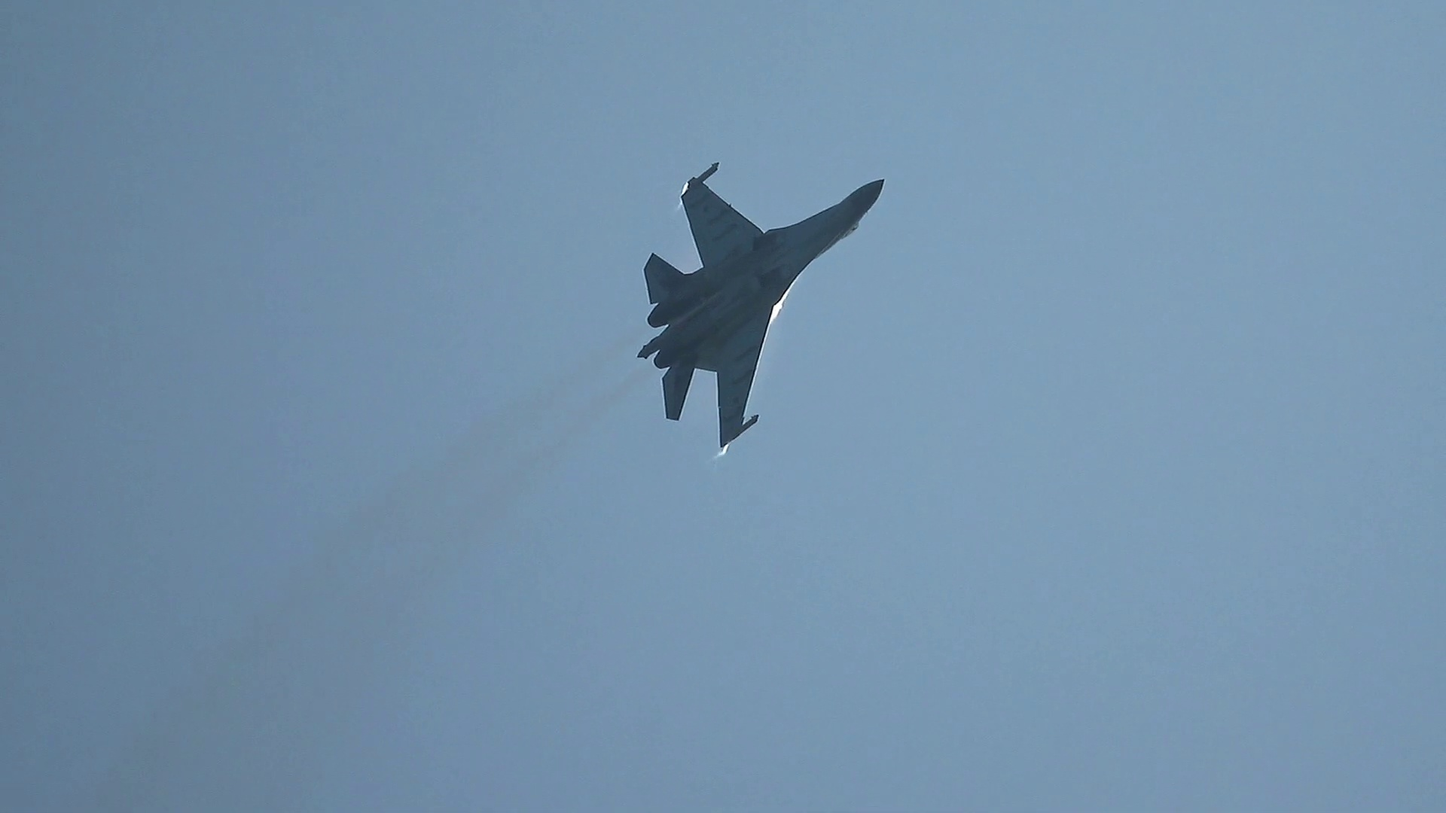Su35: (636, 162, 886, 447)
